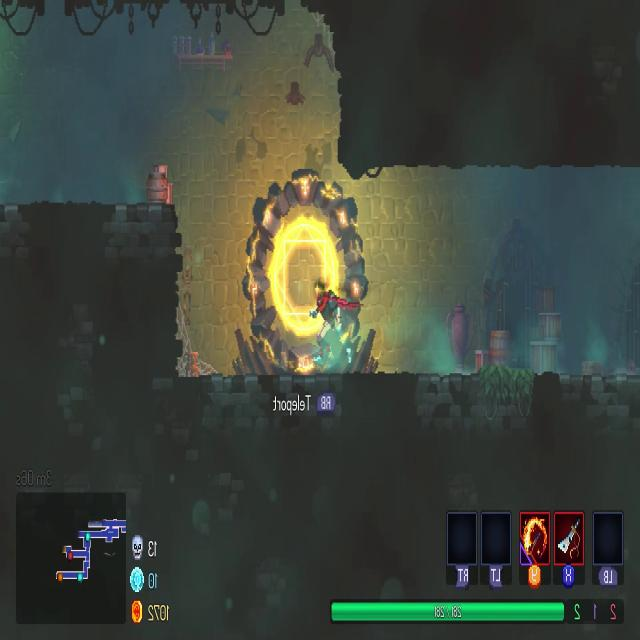agents: (292, 276, 363, 393)
